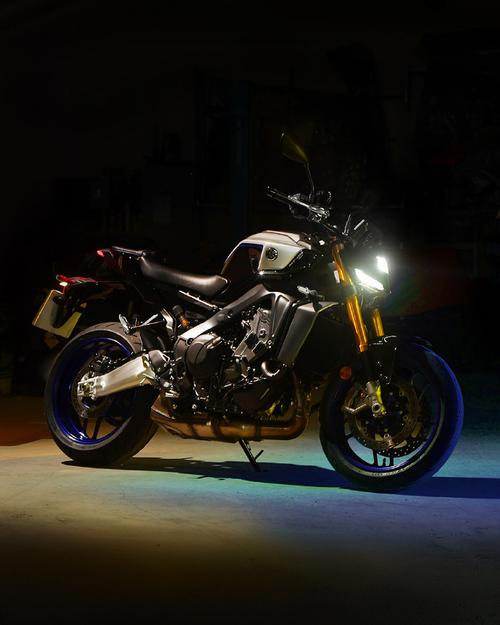摩托车: (22, 127, 477, 497)
